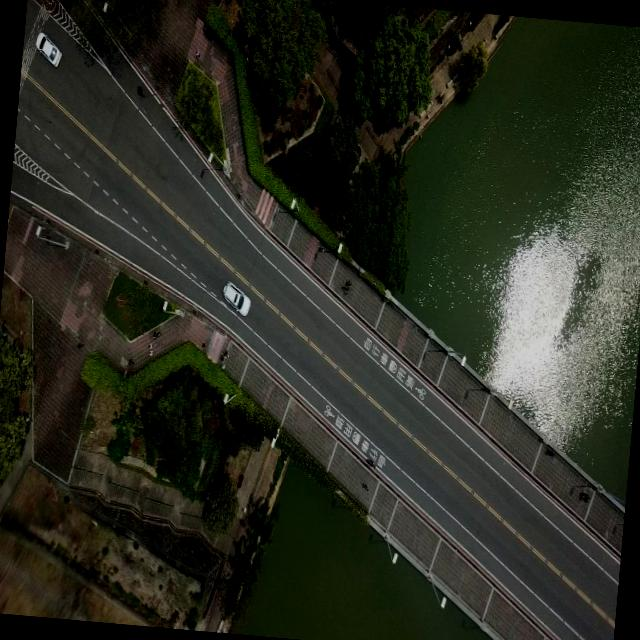car: (220, 280, 252, 316), (33, 31, 63, 68)
